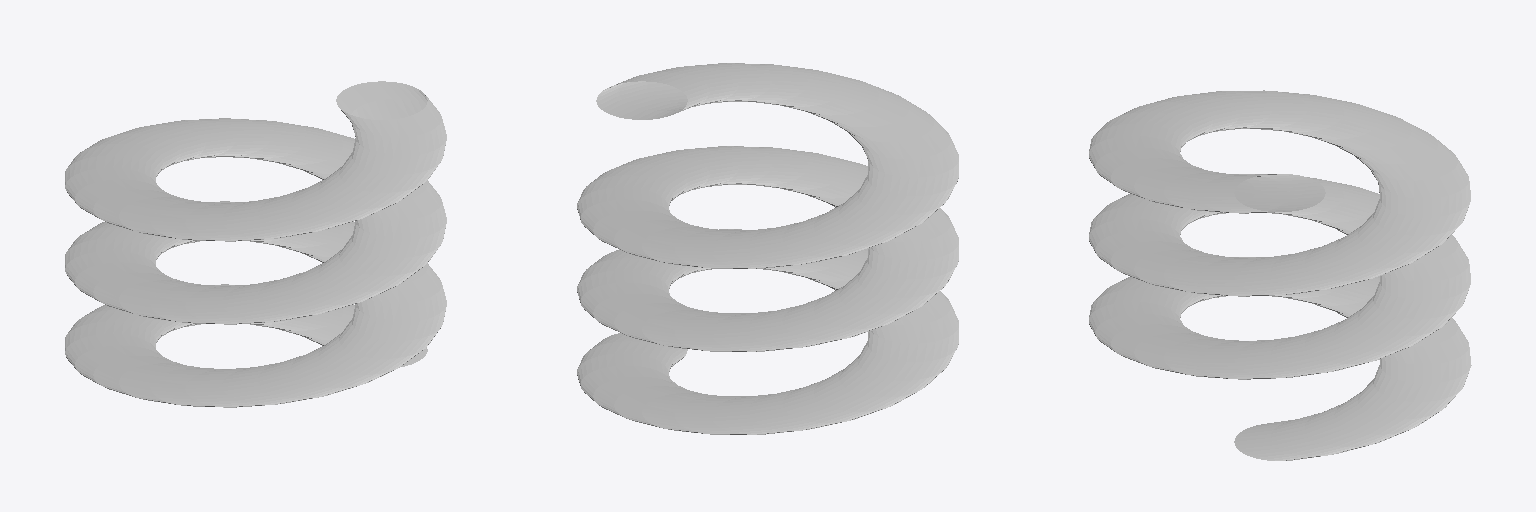
Rendered from spring.obj.
3 renders of one model, left to right at view 1: azimuth 30°, elevation 25°; view 2: azimuth 150°, elevation 25°; view 3: azimuth 270°, elevation 25°, orthographic.
Visible parts, largest first — view 1: Circle; view 2: Circle; view 3: Circle.
Part boxes in pixels (x1,y1,x2,y2): Circle: (65,81,446,407); Circle: (577,63,958,434); Circle: (1089,90,1471,460).
Bounding box in the file's own units: 8.35 × 6 × 8.36.